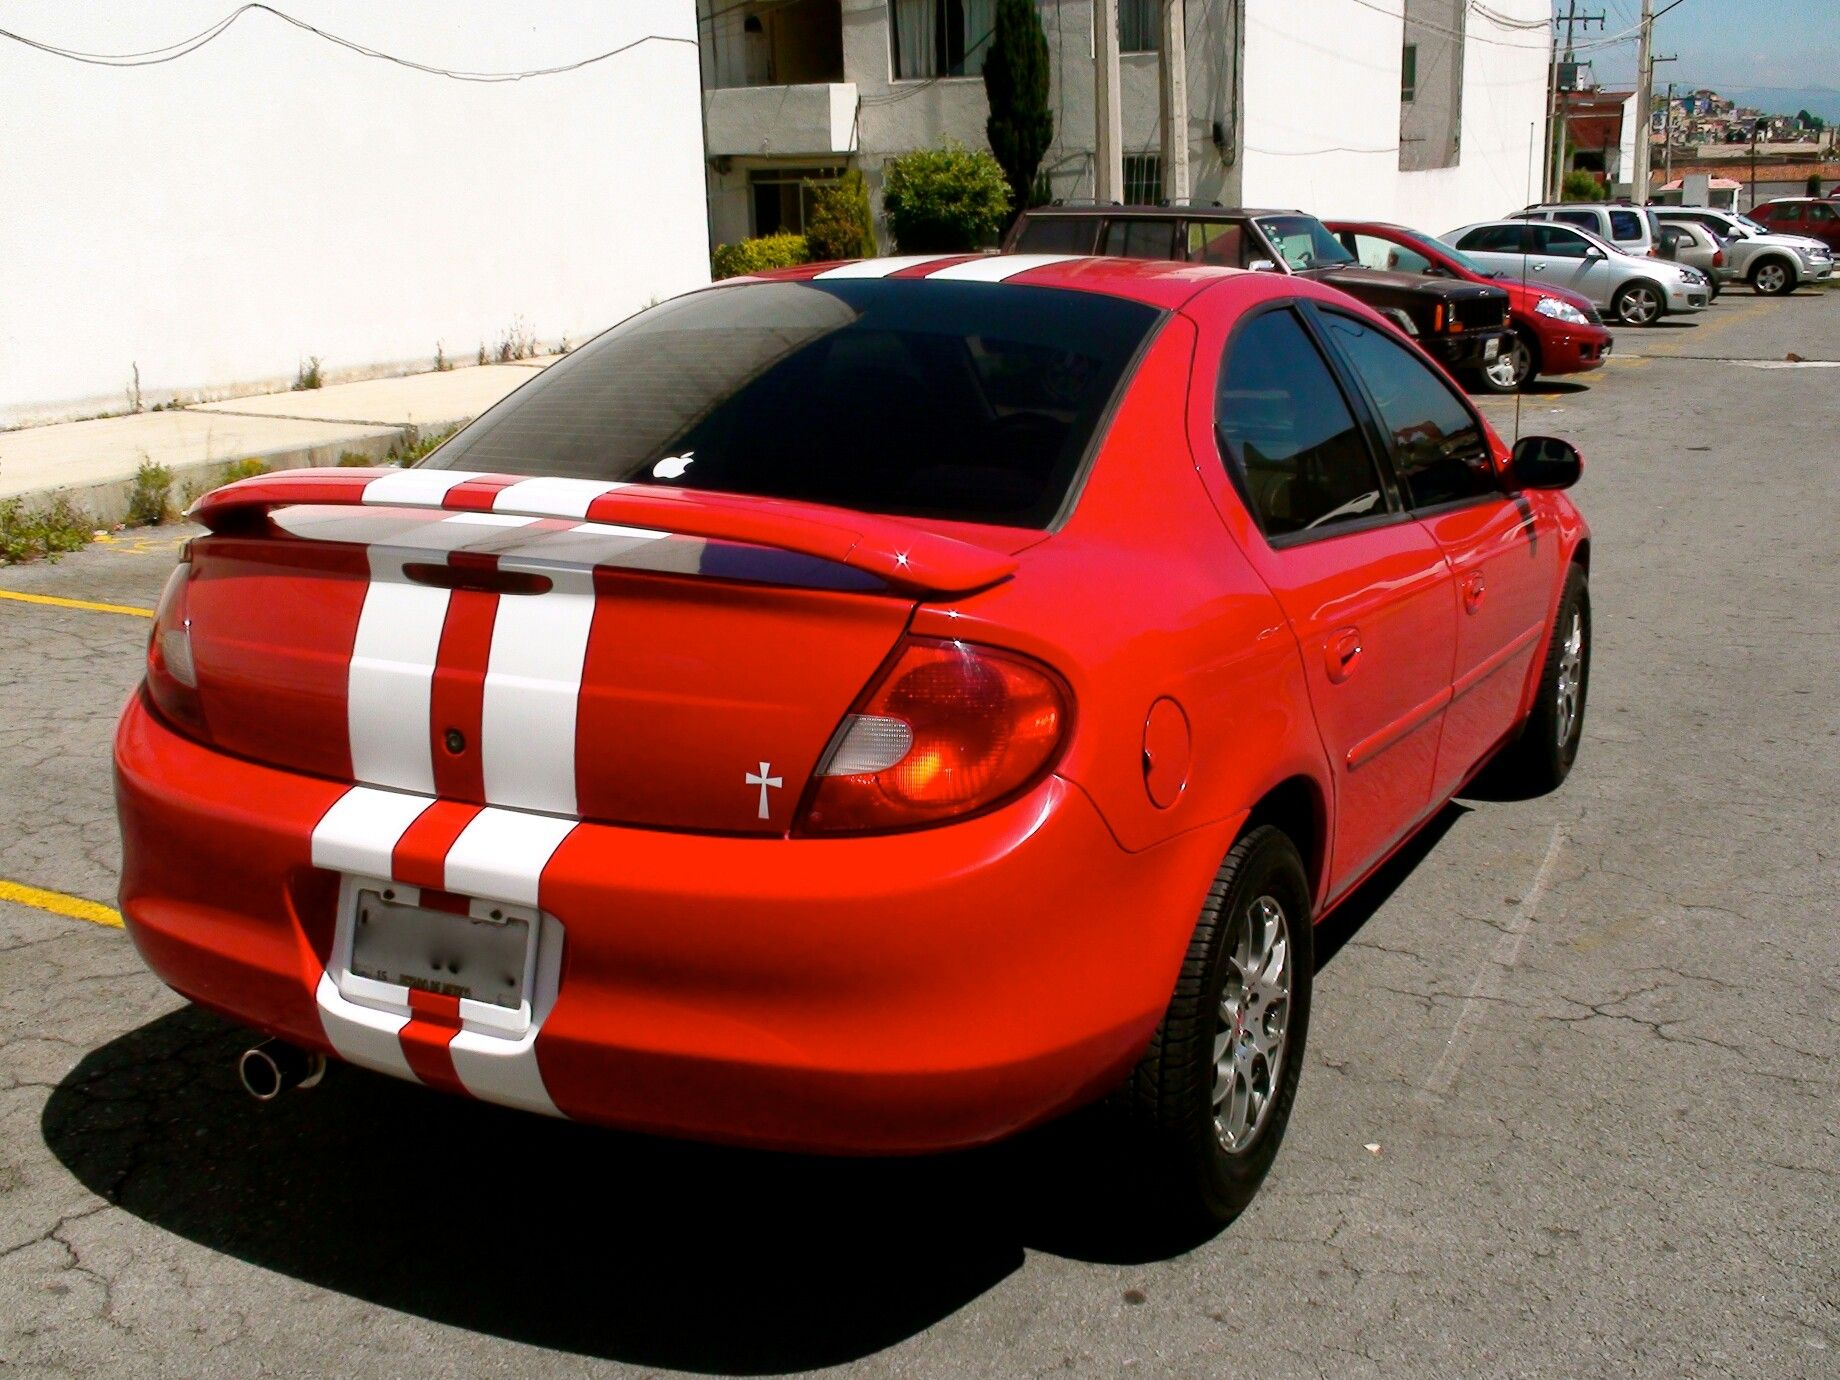car: (99, 246, 1605, 1235), (1384, 206, 1714, 331)
